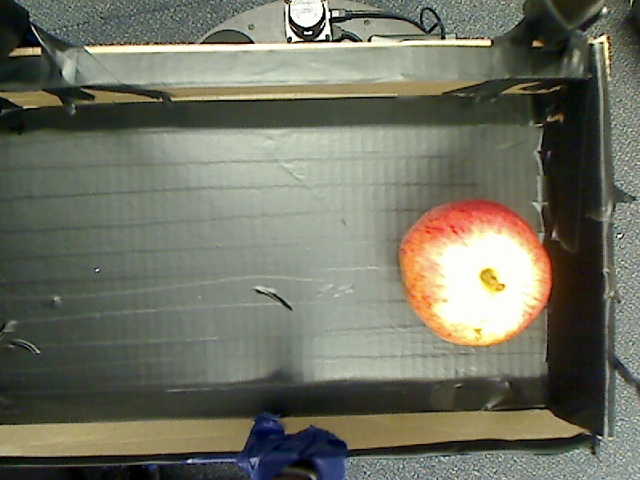apple: (387, 190, 564, 358)
